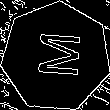M_W: (29, 32, 82, 82)
